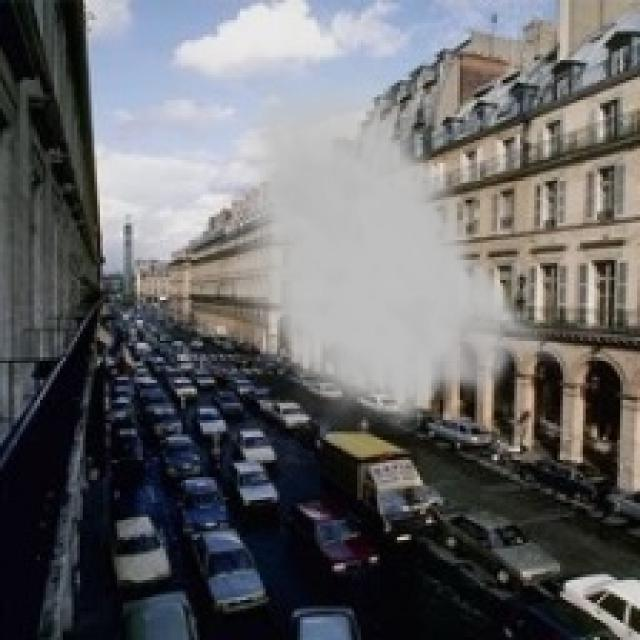Smoke: (226, 57, 583, 443)
